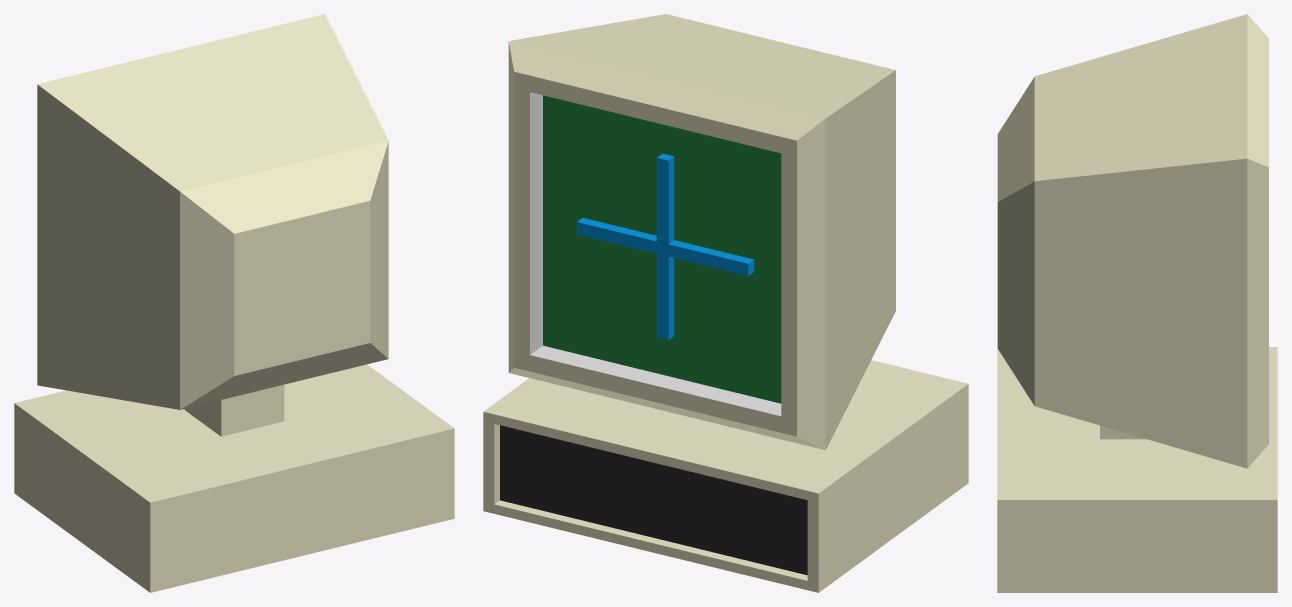
File: item_target_comp.glb
The picture shows the model from 3 angles, left to right: view 1: azimuth 30°, elevation 25°; view 2: azimuth 150°, elevation 25°; view 3: azimuth 270°, elevation 25°; orthographic projection. The views are drawn at different scales.
Parts seen in each view (by area): view 1: monitor, computer; view 2: monitor, computer, crosshair; view 3: monitor, computer.
Boxes of the visible parts, x1,y1,x2,y2 form: monitor: (37,14,388,409); computer: (14,364,454,592); monitor: (508,14,895,450); computer: (483,360,968,592); crosshair: (577,153,754,340); monitor: (997,14,1268,468); computer: (997,347,1277,592).
Bounding box in the file's own units: 0.491 × 0.6442 × 0.3805.
